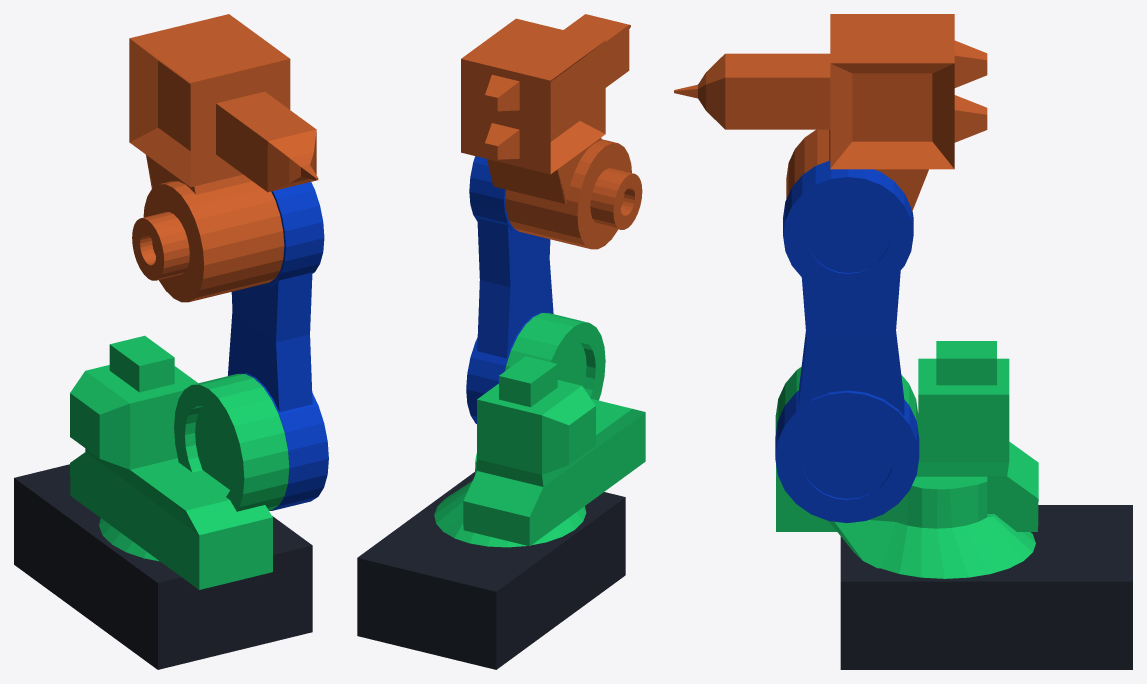
The picture shows the model from 3 angles, left to right: view 1: azimuth 30°, elevation 25°; view 2: azimuth 150°, elevation 25°; view 3: azimuth 270°, elevation 25°; orthographic projection. The views are drawn at different scales.
Parts seen in each view (by area): view 1: 3, 1, Base, 2; view 2: 3, 1, Base, 2; view 3: 2, Base, 3, 1.
Part boxes in pixels (x1,y1,x2,y2): 3: [129, 14, 318, 302]; 1: [70, 335, 289, 589]; Base: [14, 464, 312, 669]; 2: [228, 182, 328, 510]; 3: [461, 14, 642, 249]; 1: [434, 313, 645, 547]; Base: [357, 472, 625, 669]; 2: [466, 156, 553, 423]; 2: [775, 160, 919, 523]; Base: [840, 505, 1132, 669]; 3: [674, 14, 987, 211]; 1: [775, 341, 1038, 578].
Bounding box in the file's own units: 1.5 × 5 × 3.5.
